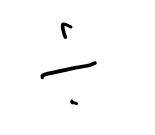div: (40, 21, 97, 106)
